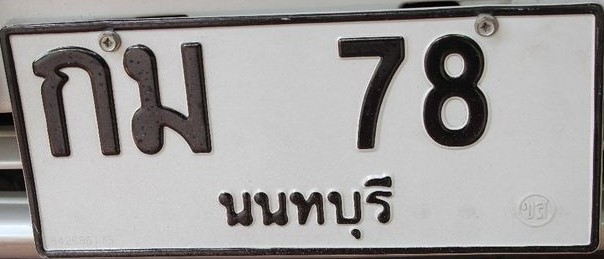txt01: (29, 45, 123, 158)
txt28: (120, 42, 215, 156)
